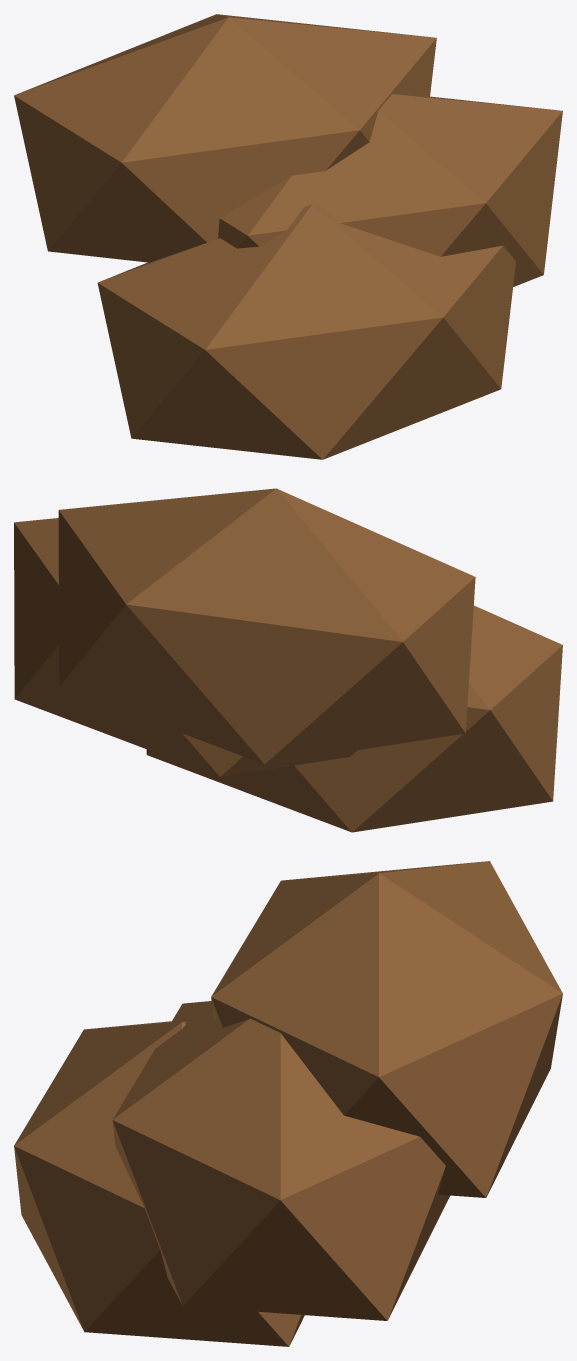
The model's file is w3d_item_hazelnuts_m.glb.
The picture shows the model from 3 angles, top to bottom: view 1: azimuth 30°, elevation 25°; view 2: azimuth 150°, elevation 25°; view 3: azimuth 270°, elevation 25°; orthographic projection. The views are drawn at different scales.
Visible parts, largest first — view 1: item_018_hazelnuts_m; view 2: item_018_hazelnuts_m; view 3: item_018_hazelnuts_m.
Part boxes in pixels (bbox=[...]): item_018_hazelnuts_m: bbox=[14, 14, 562, 459]; item_018_hazelnuts_m: bbox=[14, 488, 562, 832]; item_018_hazelnuts_m: bbox=[14, 861, 562, 1346].
Size of the model in its own units: 0.3928 by 0.2969 by 0.3342.
